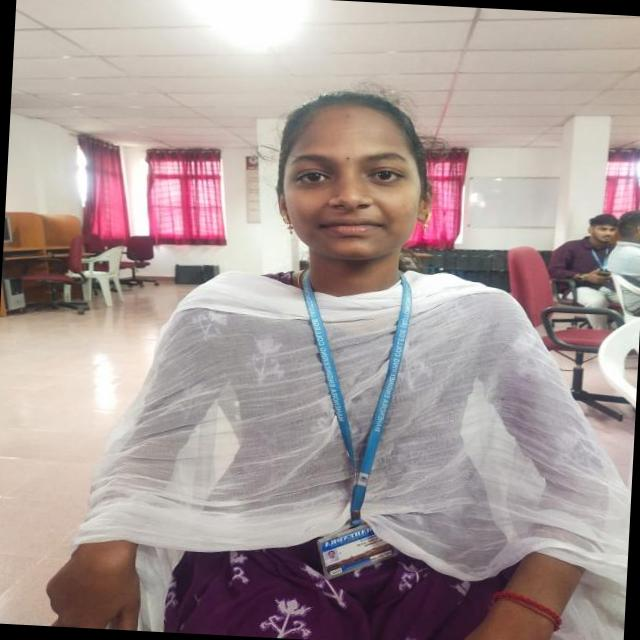id_card: (290, 266, 416, 574)
